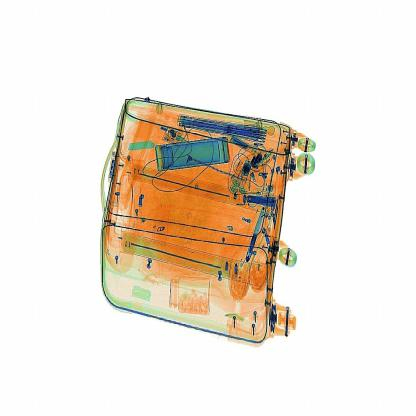pliers: (121, 130, 162, 163)
